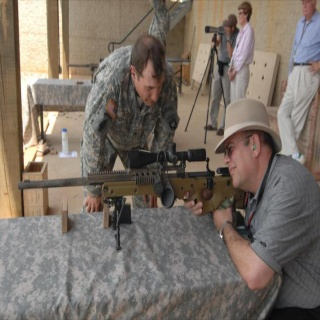rifle: (17, 142, 246, 251)
